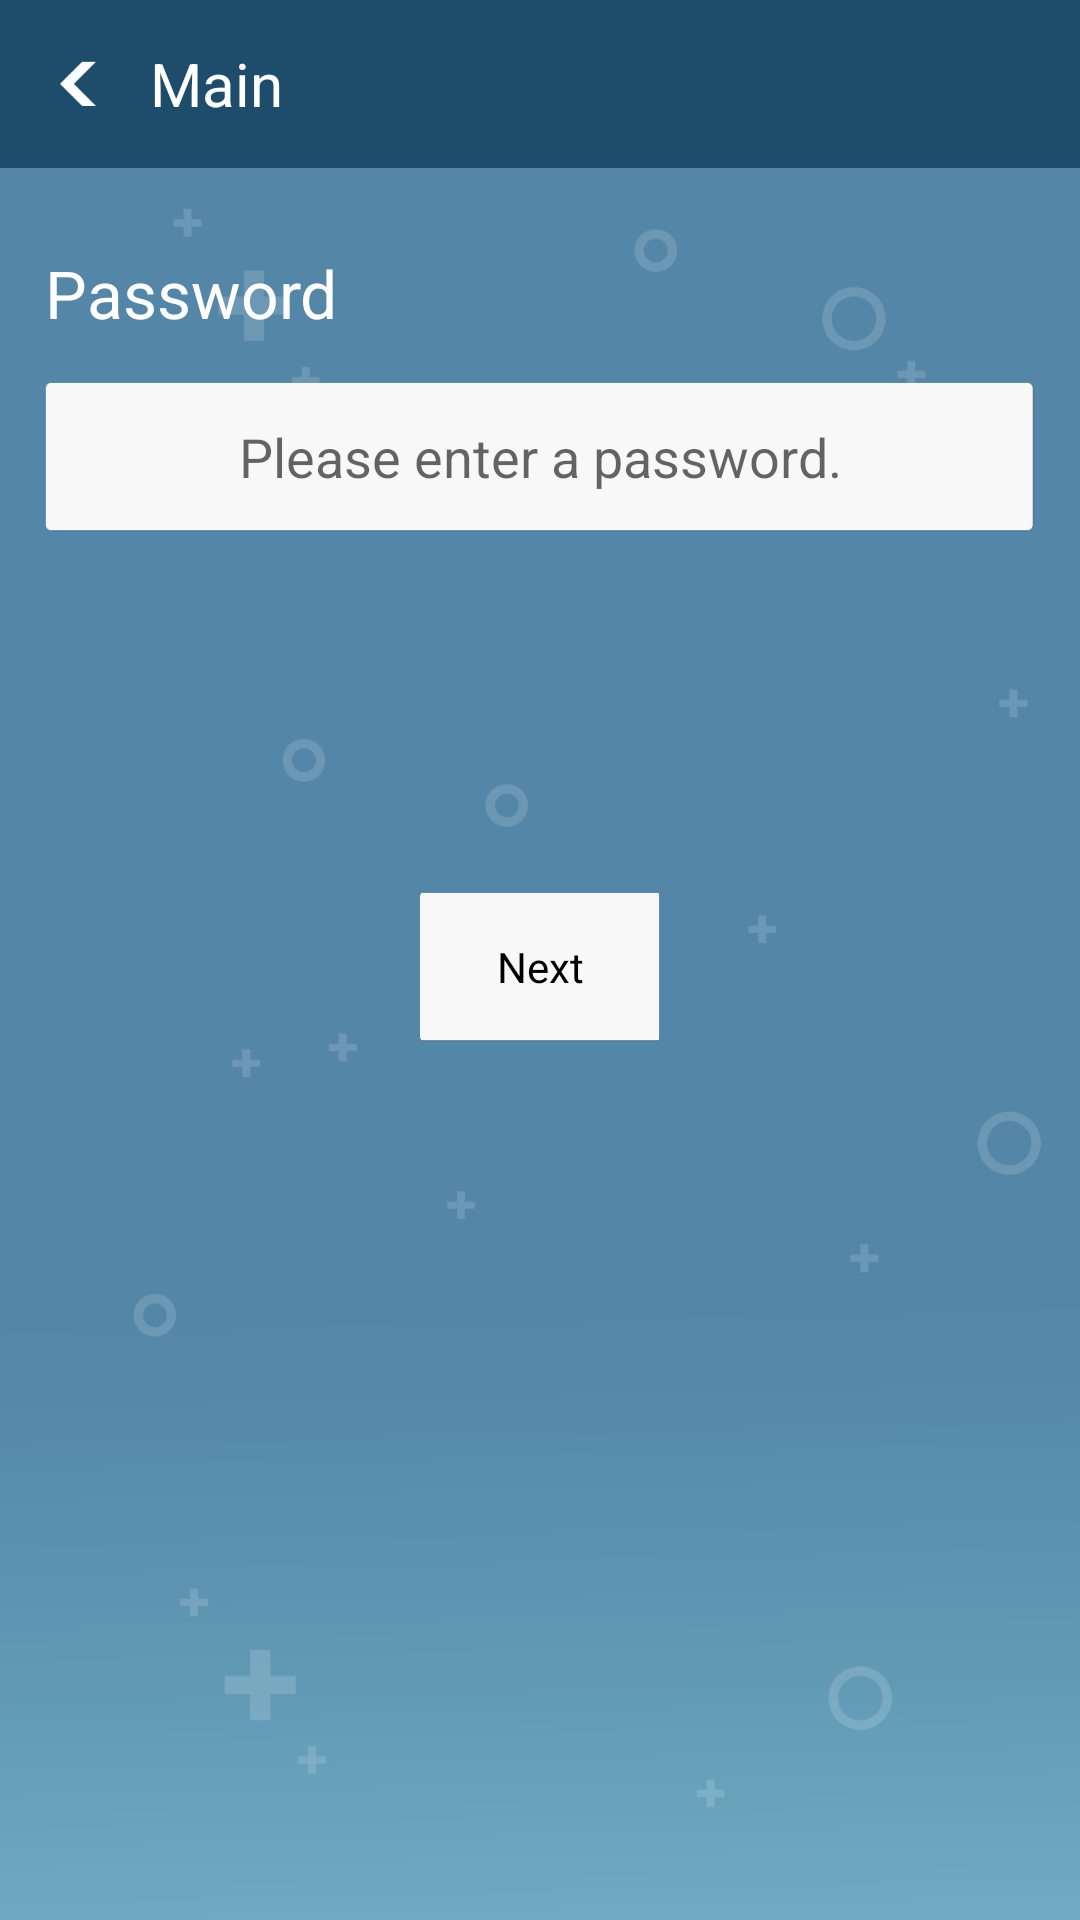

Icons on this 1080×1920 Android screen, each with its box as (x1, y1, x2, y2):
back: (60, 61, 96, 106)
